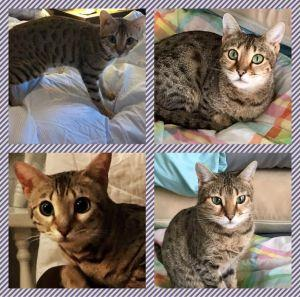bengal: (12, 152, 123, 253)
